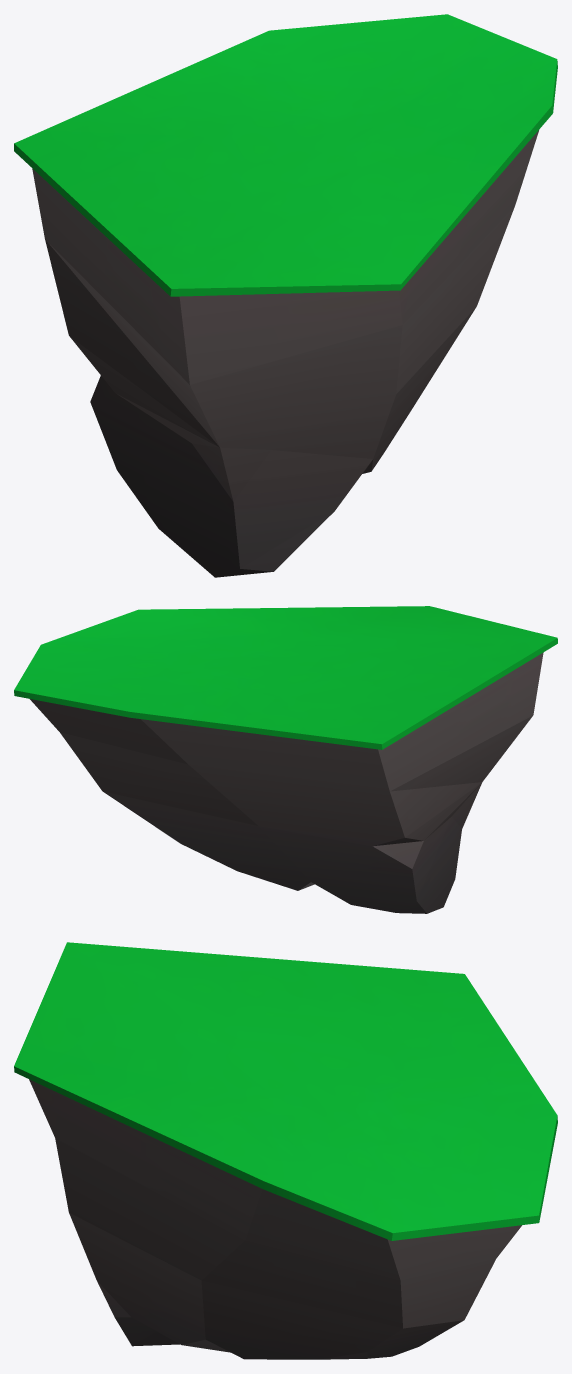
The model's file is Island_1.fbx.
3 renders of one model, top to bottom at view 1: azimuth 30°, elevation 25°; view 2: azimuth 150°, elevation 25°; view 3: azimuth 270°, elevation 25°, orthographic. The views are drawn at different scales.
Visible parts, largest first — view 1: Island_1; view 2: Island_1; view 3: Island_1.
Part boxes in pixels (left/top/right/bottom): Island_1: left=14, top=14, right=557, bottom=577; Island_1: left=14, top=606, right=557, bottom=913; Island_1: left=14, top=942, right=557, bottom=1359.
Bounding box in the file's own units: 7.83 × 4.83 × 6.74.
